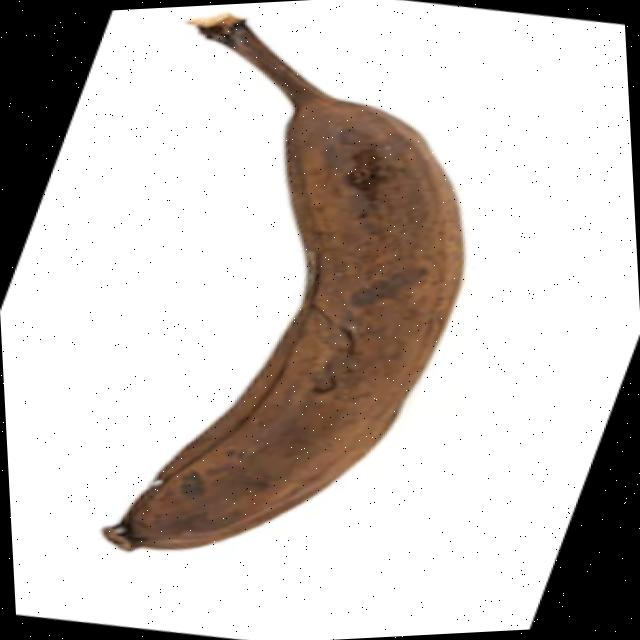Rotten: (72, 1, 482, 556)
